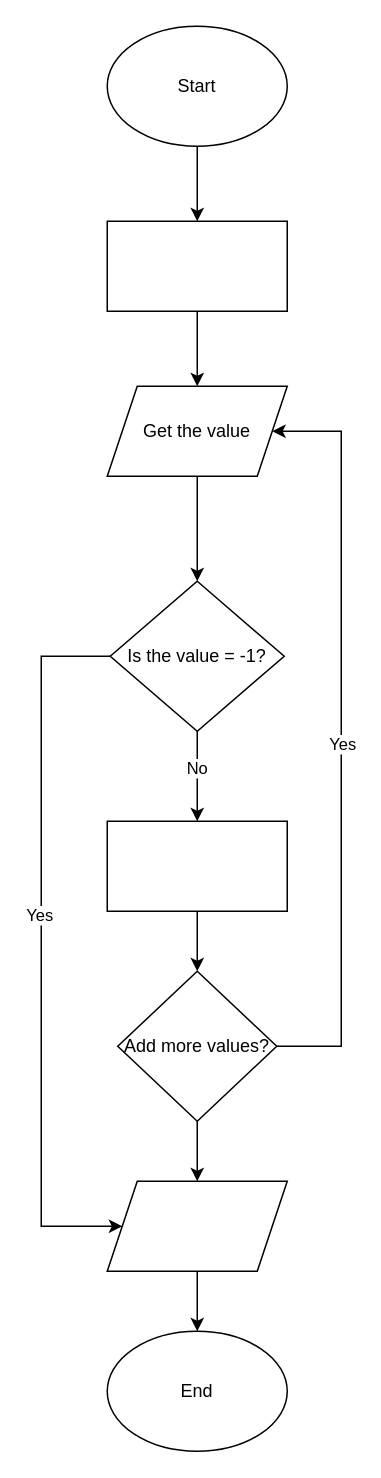
This 381x1478 diagram has some shape labels left out. The shapes that lost their labels are listed below. From the top down, each one's box as (x1, y1, x2, y2) in pixels, then its label:
(106, 220, 287, 311): Sum = 0
(106, 820, 287, 911): Add to sum (sum = sum + value)
(106, 1180, 287, 1271): Output the sum
